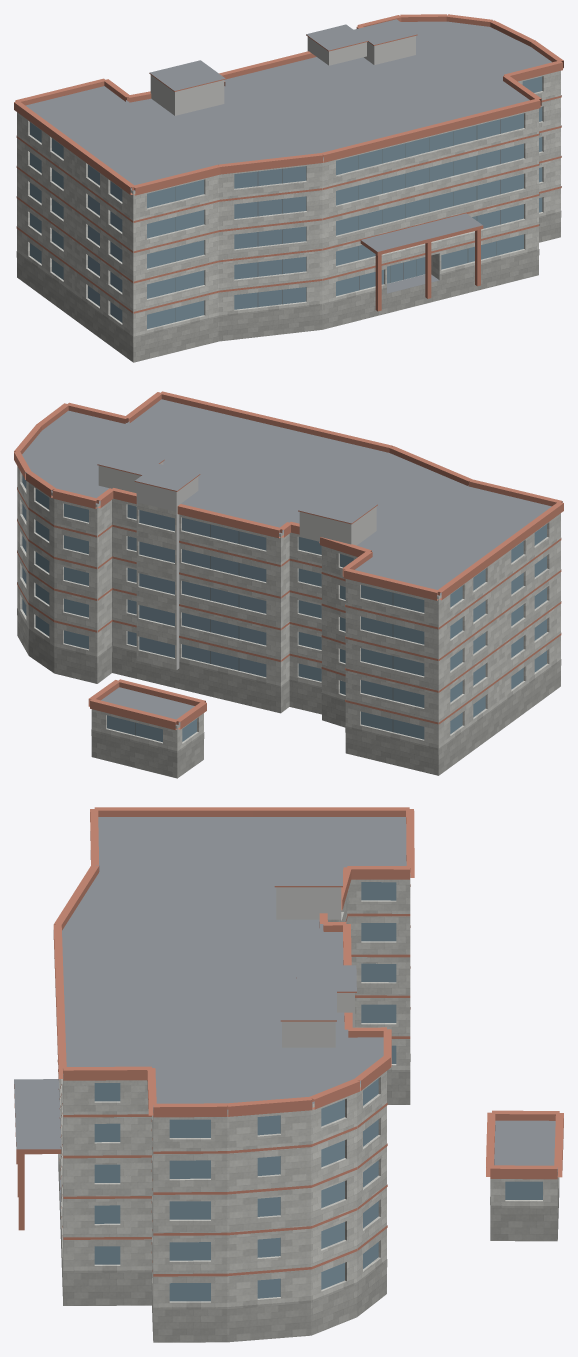
3 views of the same model, one above another, from view 1: azimuth 30°, elevation 25°; view 2: azimuth 150°, elevation 25°; view 3: azimuth 270°, elevation 25° (orthographic). The views are drawn at different scales.
Parts seen in each view (by area): view 1: lgInnovHallN24__wall, lgInnovHallN24__roof, lgInnovHallN24__glass, lgInnovHallN24__trim, lgInnovHallN24__base, lgInnovHallN24__wall2, lgInnovHallN24__column, lgInnovHallN24__frame; view 2: lgInnovHallN24__wall, lgInnovHallN24__roof, lgInnovHallN24__glass, lgInnovHallN24__trim, lgInnovHallN24__base, lgInnovHallN24__wall2; view 3: lgInnovHallN24__roof, lgInnovHallN24__wall, lgInnovHallN24__trim, lgInnovHallN24__glass, lgInnovHallN24__base, lgInnovHallN24__wall2.
Part boxes in pixels (left/top/right/bottom): lgInnovHallN24__wall: left=17, top=70, right=560, bottom=342; lgInnovHallN24__roof: left=25, top=19, right=551, bottom=293; lgInnovHallN24__glass: left=30, top=76, right=542, bottom=328; lgInnovHallN24__trim: left=14, top=14, right=563, bottom=313; lgInnovHallN24__base: left=16, top=211, right=561, bottom=362; lgInnovHallN24__wall2: left=150, top=36, right=415, bottom=115; lgInnovHallN24__column: left=375, top=229, right=480, bottom=311; lgInnovHallN24__frame: left=175, top=119, right=500, bottom=321; lgInnovHallN24__wall: left=17, top=466, right=560, bottom=757; lgInnovHallN24__roof: left=22, top=399, right=551, bottom=725; lgInnovHallN24__glass: left=22, top=475, right=546, bottom=742; lgInnovHallN24__trim: left=14, top=391, right=563, bottom=730; lgInnovHallN24__base: left=17, top=608, right=561, bottom=778; lgInnovHallN24__wall2: left=98, top=462, right=376, bottom=669; lgInnovHallN24__roof: left=14, top=817, right=557, bottom=1211; lgInnovHallN24__wall: left=58, top=874, right=558, bottom=1313; lgInnovHallN24__trim: left=14, top=807, right=563, bottom=1276; lgInnovHallN24__glass: left=94, top=882, right=542, bottom=1301; lgInnovHallN24__base: left=58, top=1054, right=559, bottom=1342; lgInnovHallN24__wall2: left=276, top=887, right=354, bottom=1047.
Size of the model in its own units: 59.87 by 25.87 by 46.38.
Materials: 9 (2 with a texture image).
